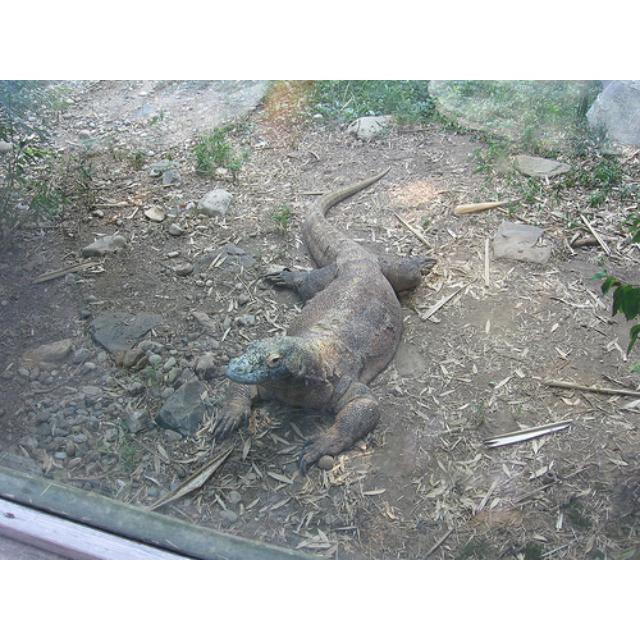KomodoDragon: (199, 161, 438, 474)
